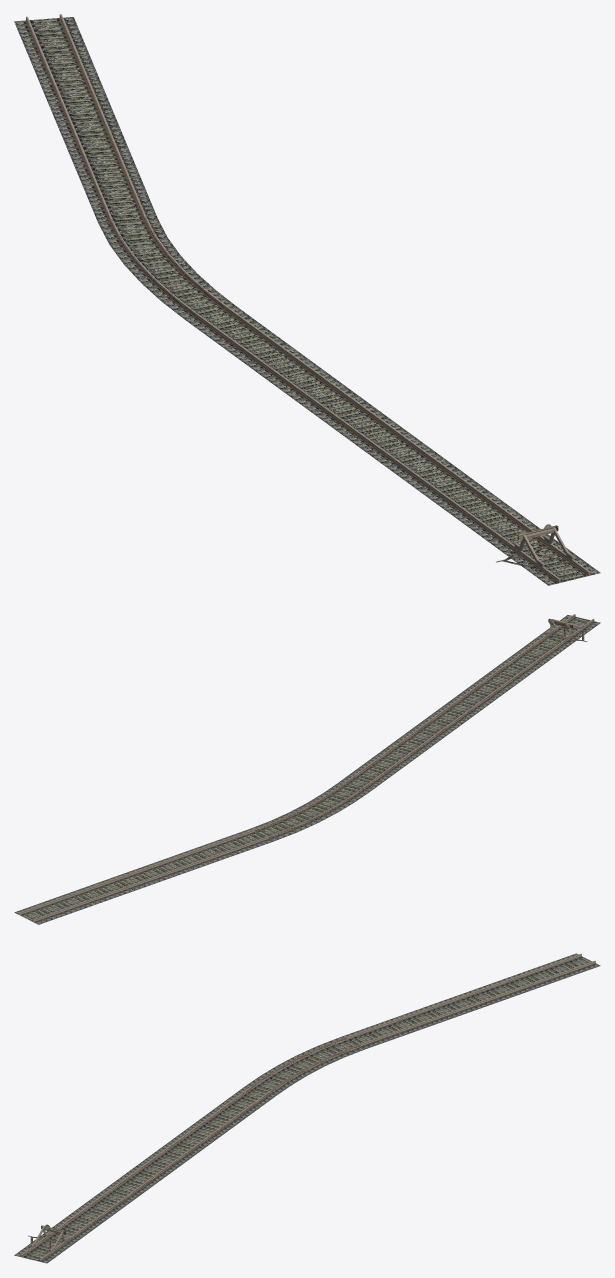
Rendered from vgsrailroad26.obj.
3 views of the same model, one above another, from view 1: azimuth 30°, elevation 25°; view 2: azimuth 150°, elevation 25°; view 3: azimuth 330°, elevation 25° (orthographic). The views are drawn at different scales.
Parts seen in each view (by area): view 1: vgsrailroad26; view 2: vgsrailroad26; view 3: vgsrailroad26.
Boxes of the visible parts, x1,y1,x2,y2 form: vgsrailroad26: (14,14,600,585); vgsrailroad26: (14,614,600,924); vgsrailroad26: (14,953,600,1263).
Size of the model in its own units: 13.83 by 1.28 by 70.42.
2 materials, 2 textured.
